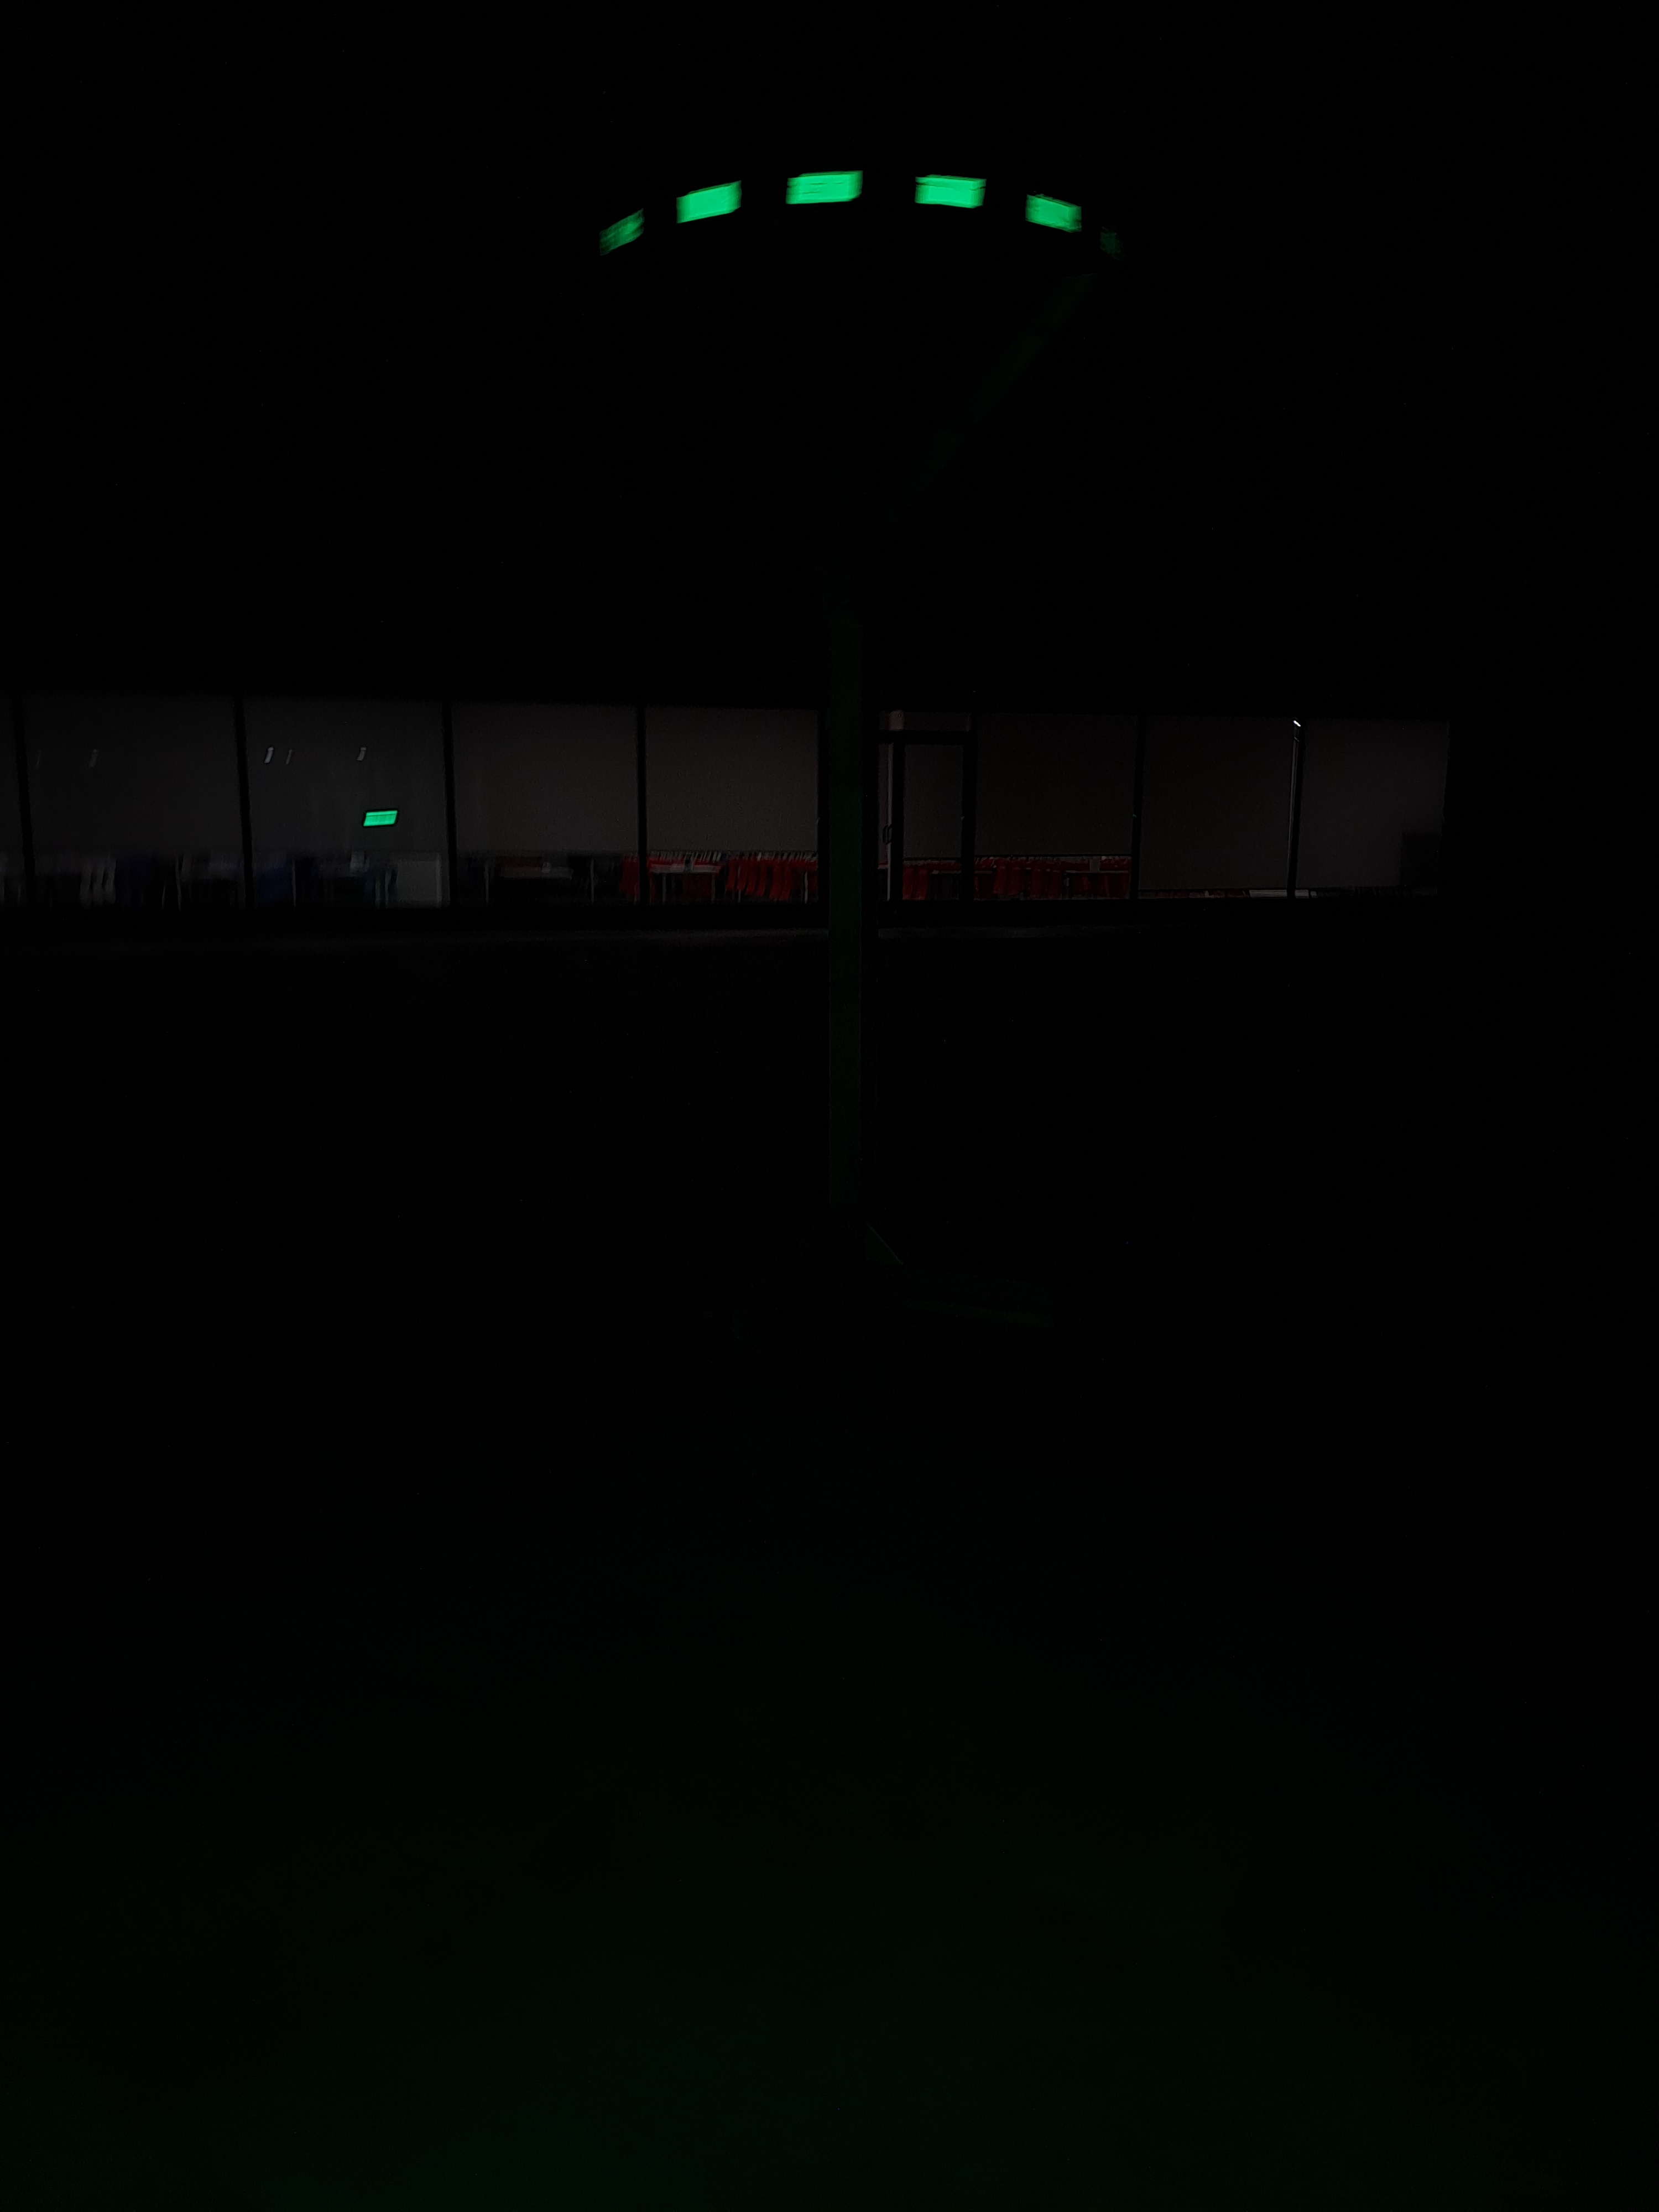hoop: (584, 171, 1091, 258)
